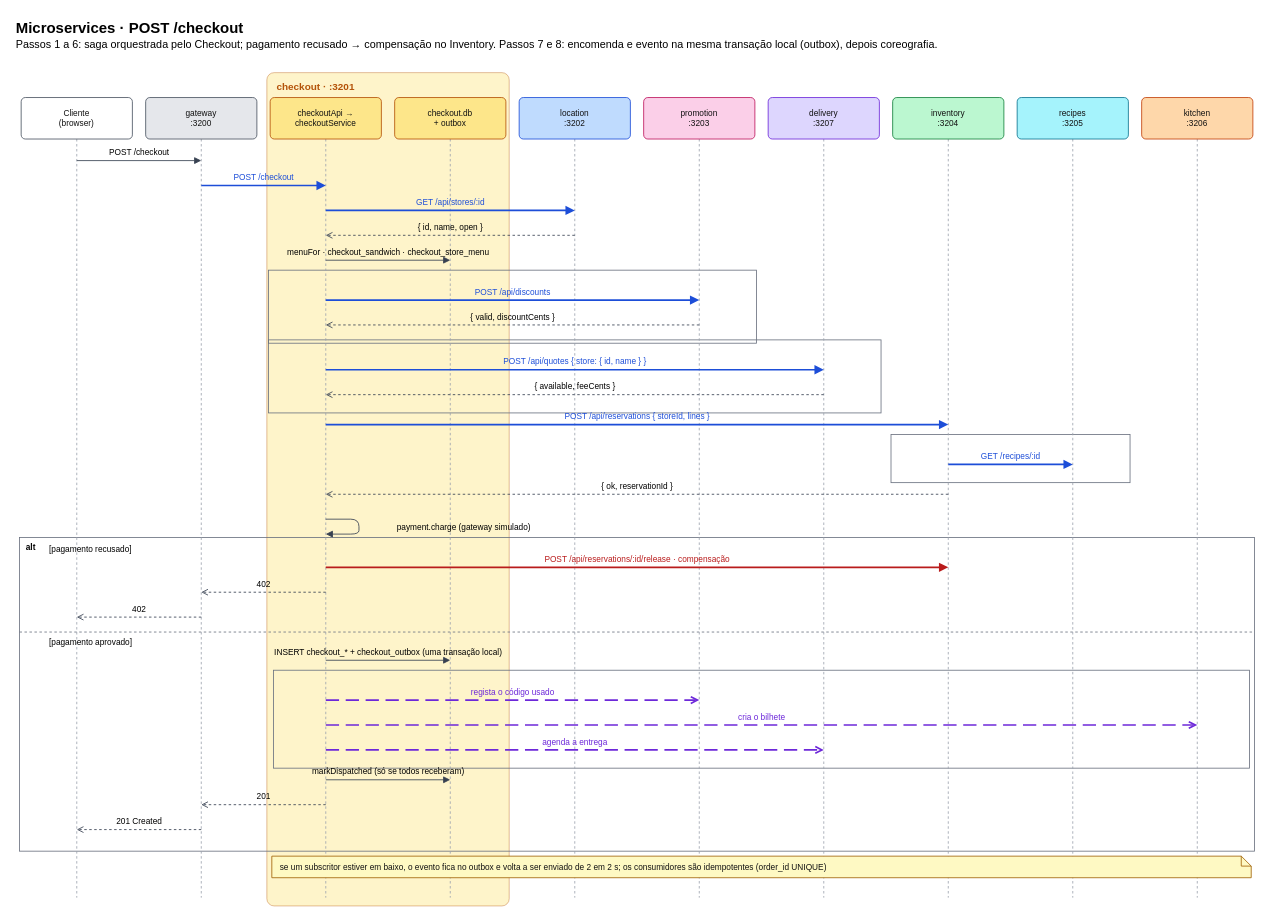
This 1273x920 diagram has some shape labels left out. The centre of each missing label's shape, as x and y in pixels:
"loop [por sandes]" goes at pixel 1010 458.
"opt [entrega ao domicílio]" goes at pixel 574 376.
"opt [há código promocional]" goes at pixel 512 306.
"par [evento OrderPlaced · POST /events/order-placed]" goes at pixel 761 718.
